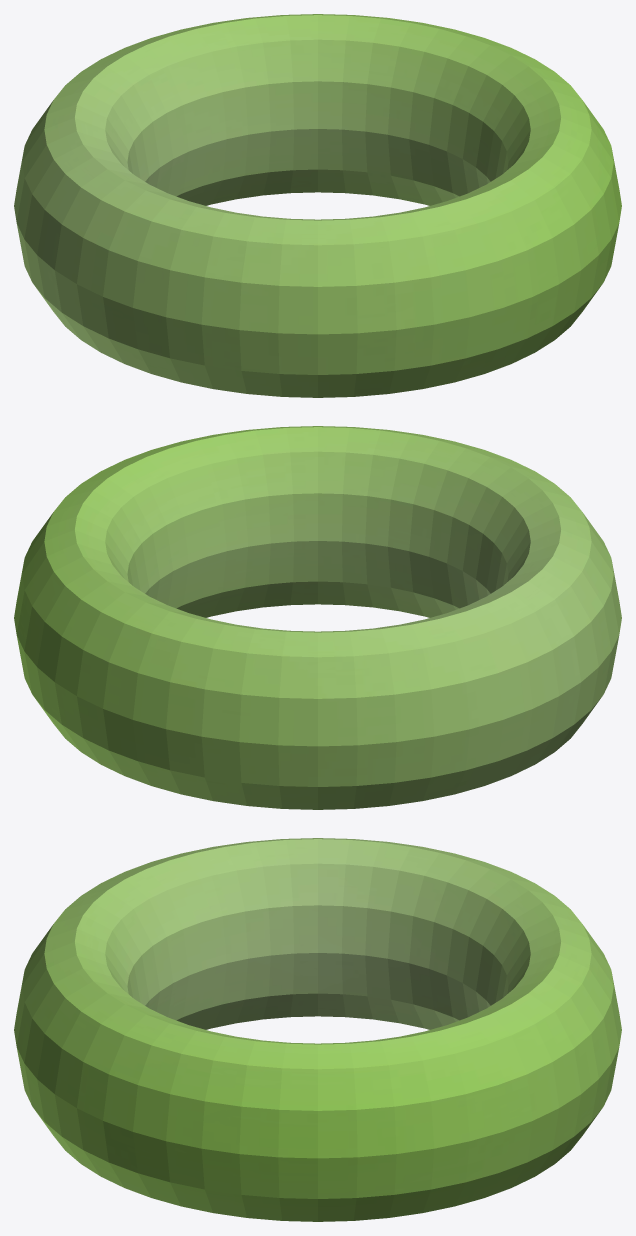
Rendered from TorM.obj.
3 views of the same model, one above another, from view 1: azimuth 30°, elevation 25°; view 2: azimuth 150°, elevation 25°; view 3: azimuth 270°, elevation 25° (orthographic).
Visible parts, largest first — view 1: Torus.001; view 2: Torus.001; view 3: Torus.001.
Boxes of the visible parts, left/top/right/bottom form: Torus.001: left=14, top=14, right=621, bottom=397; Torus.001: left=14, top=426, right=621, bottom=809; Torus.001: left=14, top=838, right=621, bottom=1221.
Size of the model in its own units: 5 by 1.6 by 5.
1 material, 1 textured.
